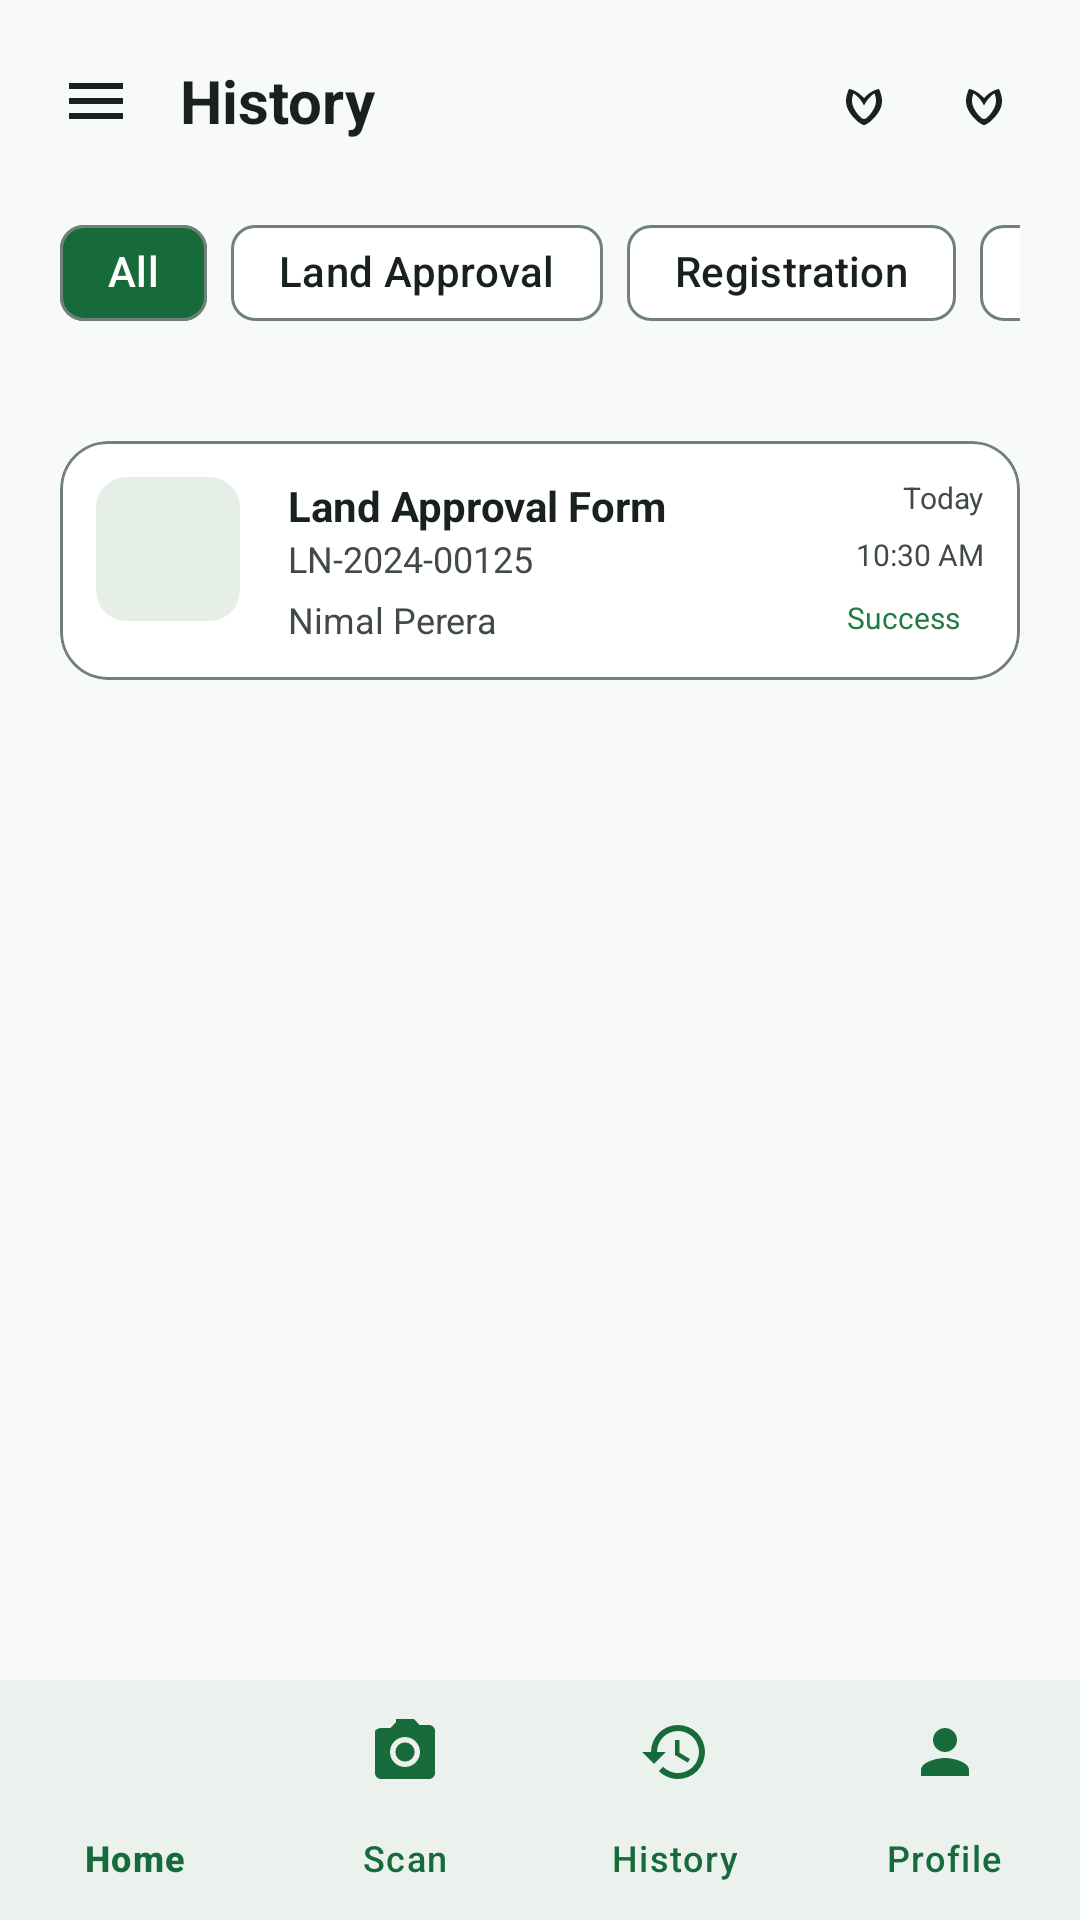

Icon click points for this 1080 x 1920 phone screenshot, format [x,y]:
menu: [96,101]
